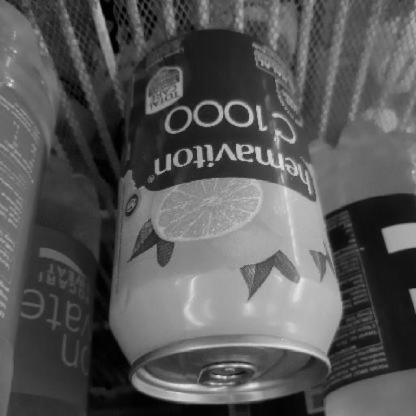alumunium_can: (102, 10, 346, 416)
